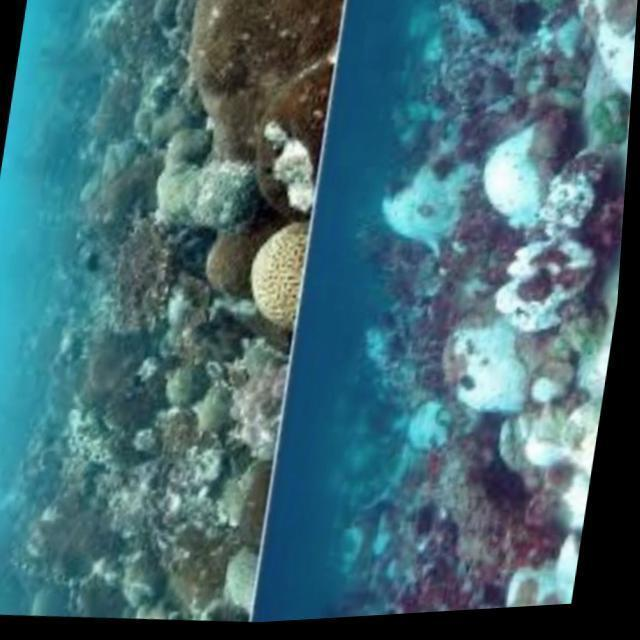Dead Coral: (0, 197, 293, 605), (192, 0, 335, 186)
